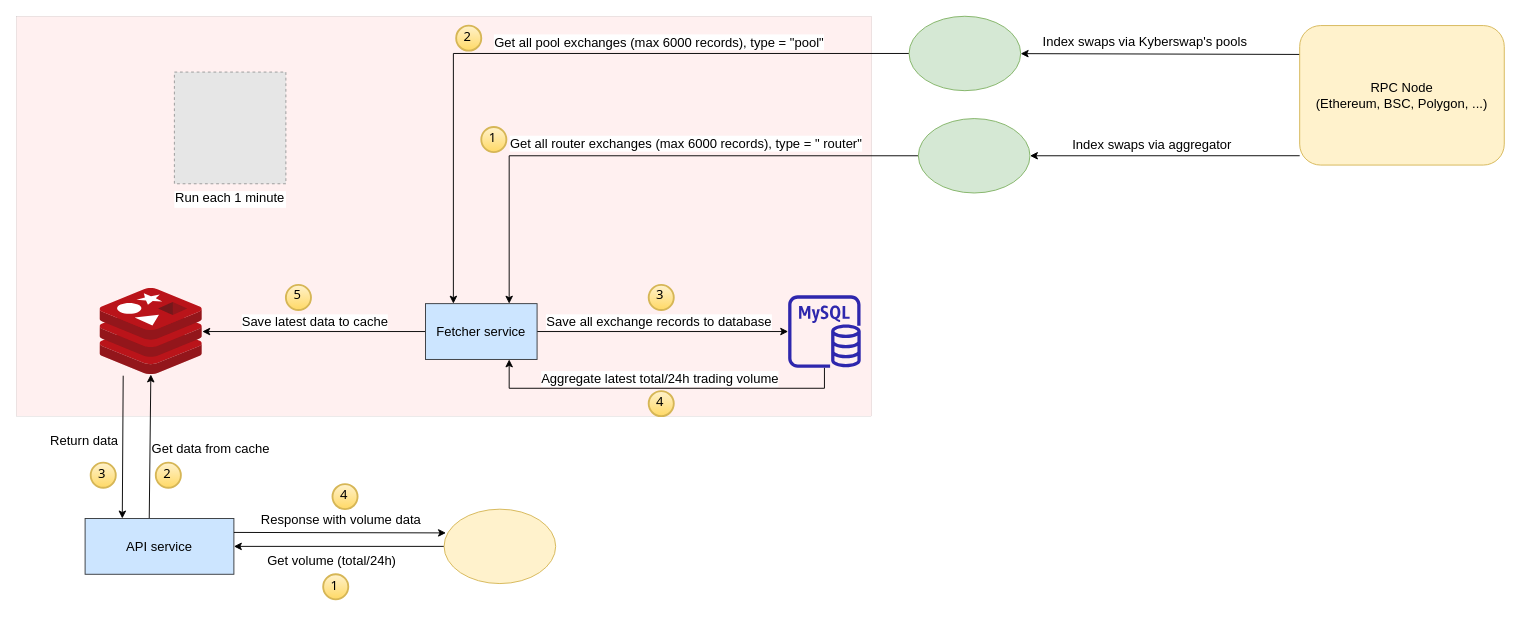
Image size: 1521x617. Some labels were removed from this diagram. Grey dashed boxes stand in for pictures. Here are the shapes that lost their labels. From the top down, the centre of each, then its label:
At [964,53]: "Exchange subgraph".
At [973,155]: "Aggregator subgraph".
At [499,546]: "Client".
